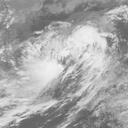cyclone: (19, 21, 108, 91)
